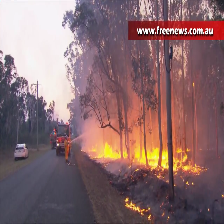fire_h: (91, 142, 207, 176), (124, 198, 151, 215)
fire_l: (156, 172, 163, 179), (147, 216, 152, 221), (165, 179, 171, 183), (185, 181, 189, 185)
